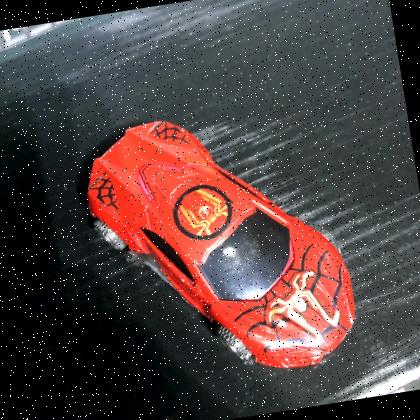Car: (68, 85, 370, 405)
